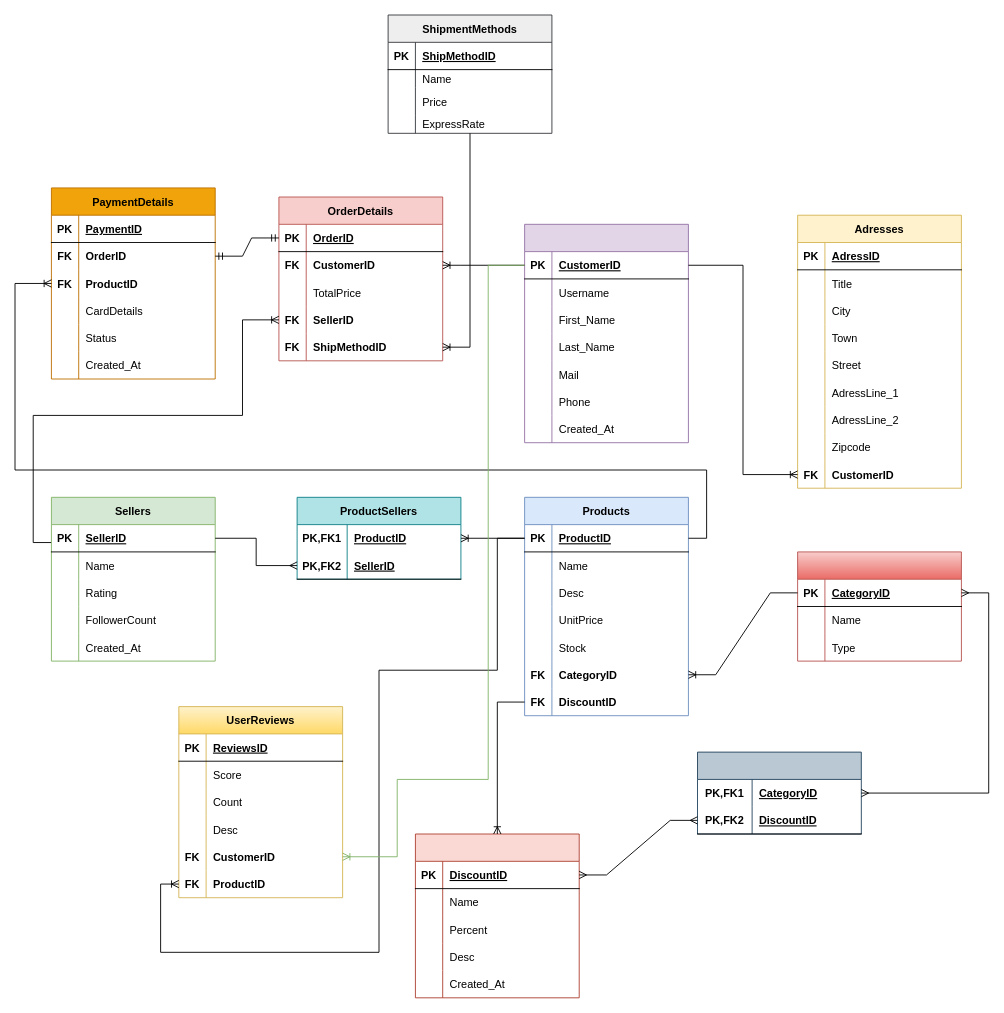
Some shapes in this 1004 by 1013 pixel diagram are drawn without their labels. Each missing label, with the box of its shape:
Categories: (797, 551, 961, 661)
Customers: (524, 223, 688, 443)
Discounts: (415, 833, 579, 998)
DiscountsCategories: (697, 751, 861, 834)
